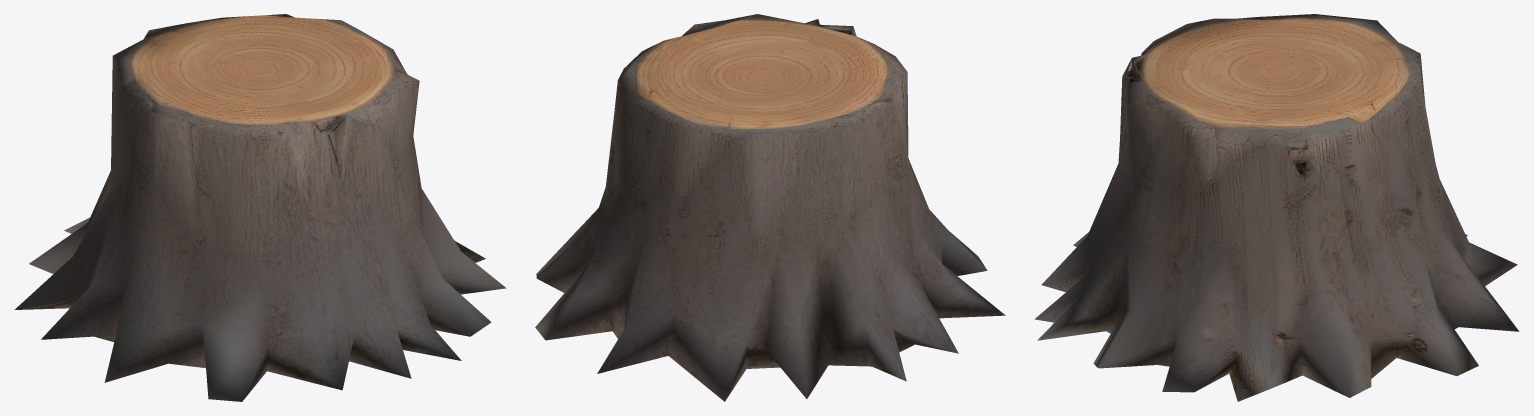
Rendered from stump.glb.
3 views of the same model, side by side, from view 1: azimuth 30°, elevation 25°; view 2: azimuth 150°, elevation 25°; view 3: azimuth 270°, elevation 25° (orthographic). The views are drawn at different scales.
Parts seen in each view (by area): view 1: tripo_node_9dc55e75-cfd6-4899-9dc3-d1fea922f75c; view 2: tripo_node_9dc55e75-cfd6-4899-9dc3-d1fea922f75c; view 3: tripo_node_9dc55e75-cfd6-4899-9dc3-d1fea922f75c.
Boxes of the visible parts, <box> form: tripo_node_9dc55e75-cfd6-4899-9dc3-d1fea922f75c: <box>14,14,506,401</box>; tripo_node_9dc55e75-cfd6-4899-9dc3-d1fea922f75c: <box>535,14,1005,401</box>; tripo_node_9dc55e75-cfd6-4899-9dc3-d1fea922f75c: <box>1035,14,1519,401</box>.
Size of the model in its own units: 0.9908 by 0.5363 by 0.9867.
Materials: 1 (1 with a texture image).
